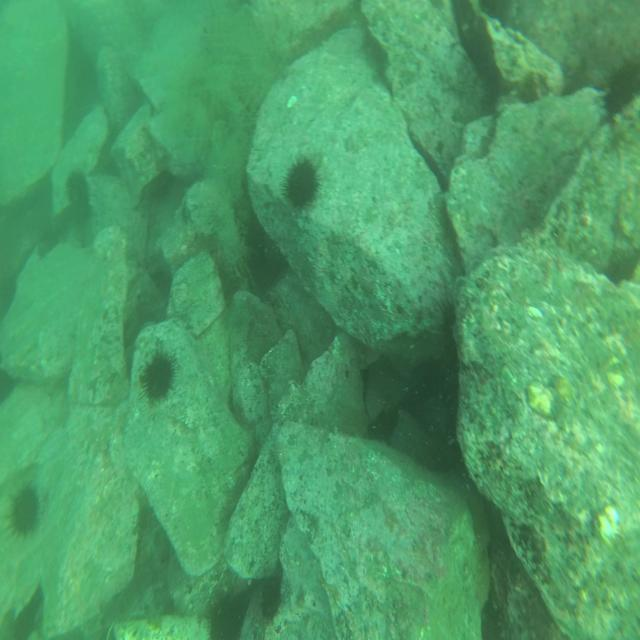echinus: (136, 341, 179, 407), (281, 152, 320, 220), (4, 477, 44, 539), (64, 165, 93, 222), (439, 291, 460, 339)
